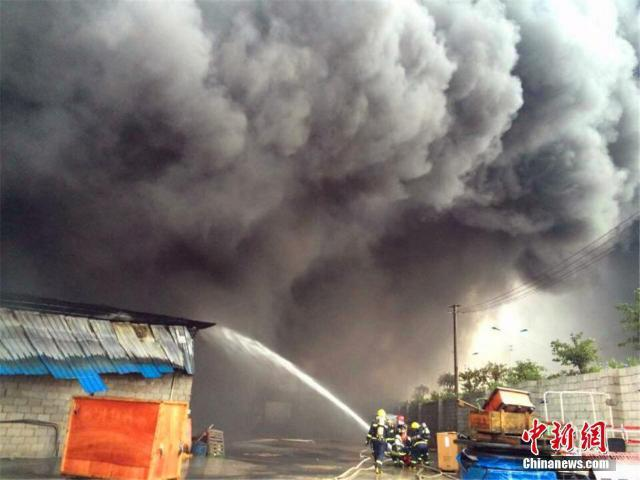smoke: (2, 2, 634, 222), (243, 233, 407, 317), (42, 229, 236, 292), (422, 227, 548, 275), (342, 322, 422, 376)
